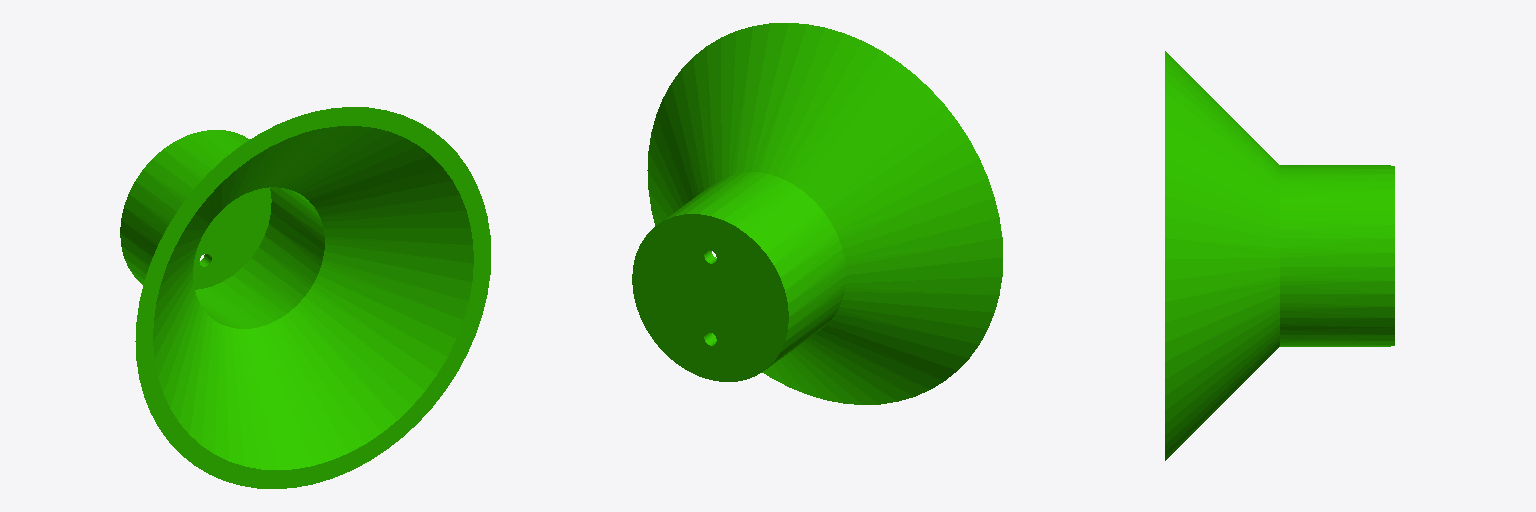
File: suction_cup.obj
3 renders of one model, left to right at view 1: azimuth 30°, elevation 25°; view 2: azimuth 150°, elevation 25°; view 3: azimuth 270°, elevation 25°, orthographic.
Bounding box in the file's own units: 0.143 × 0.143 × 0.08.